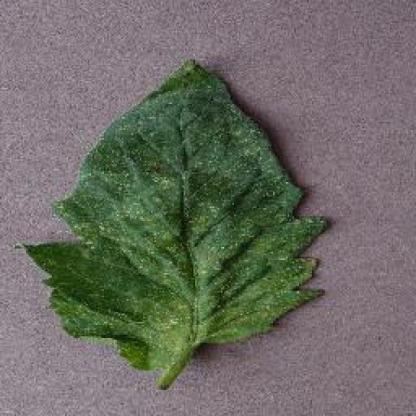Tomato_Spider_Mites: (26, 60, 330, 366)
